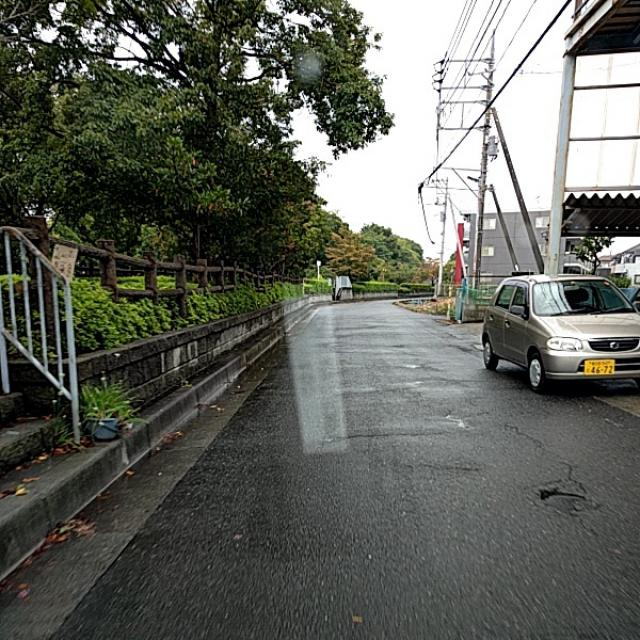pothole: (498, 445, 605, 512)
